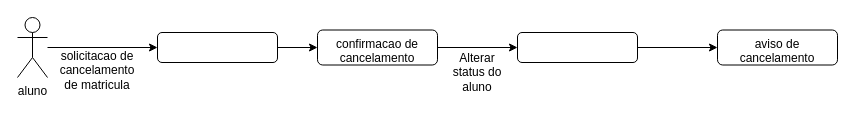
Some shapes in this 855 by 131 pixel diagram are drawn without their labels. The shapes that lost their labels are listed below. From the top down, each one's box as (x1, y1, x2, y2) in pixels, then its label:
(156, 32, 278, 62): controlador
(516, 32, 638, 62): tela do aluno
